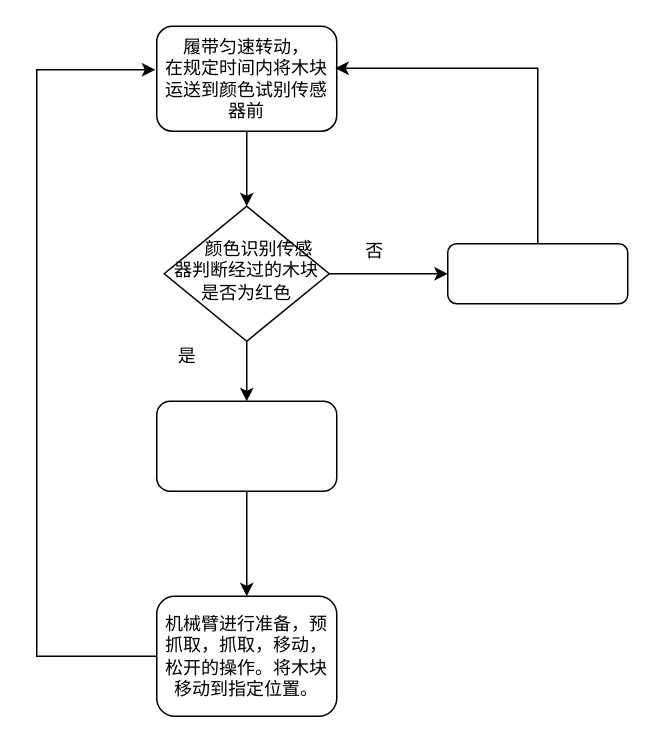
Image size: 654x743. Some labels were removed from this diagram. Each missing label, with the centre of its shape:
履带停止转动: the point at 246,445
履带继续转动: the point at 537,273
